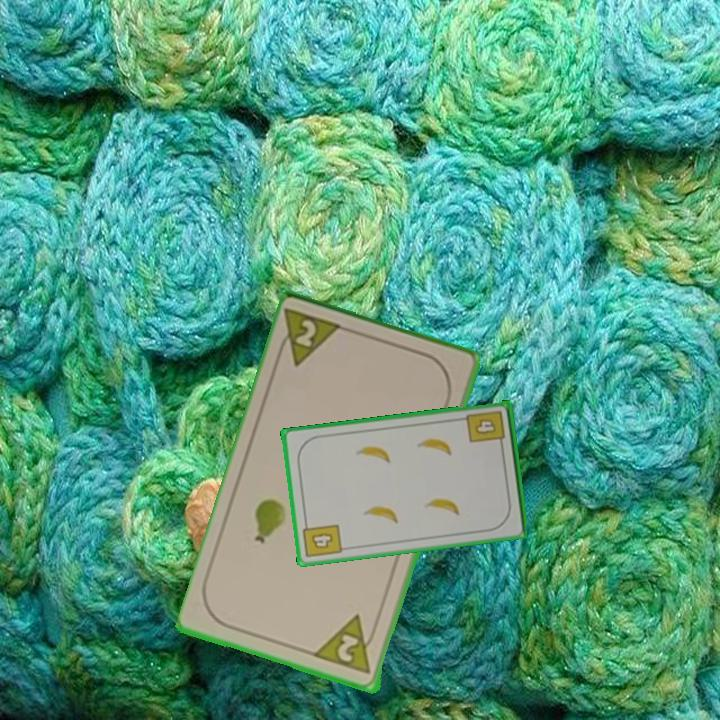2p: (272, 305, 348, 371), (313, 612, 382, 678)
4b: (300, 517, 345, 561), (463, 407, 508, 450)
